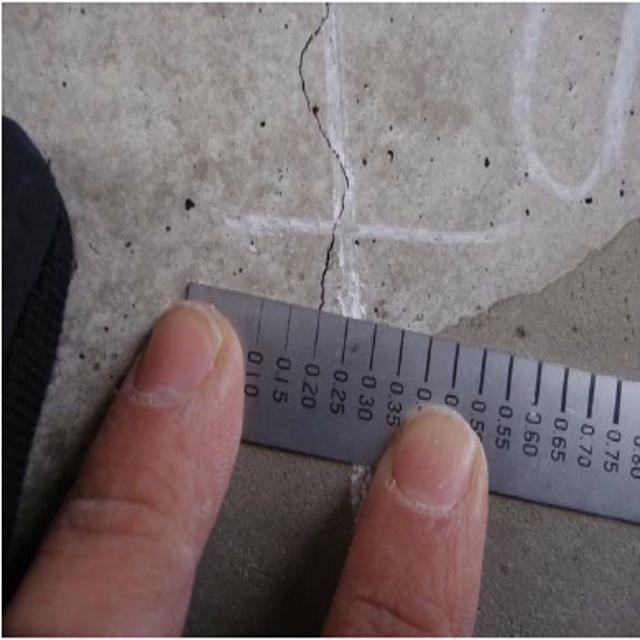crack: (292, 6, 367, 307)
